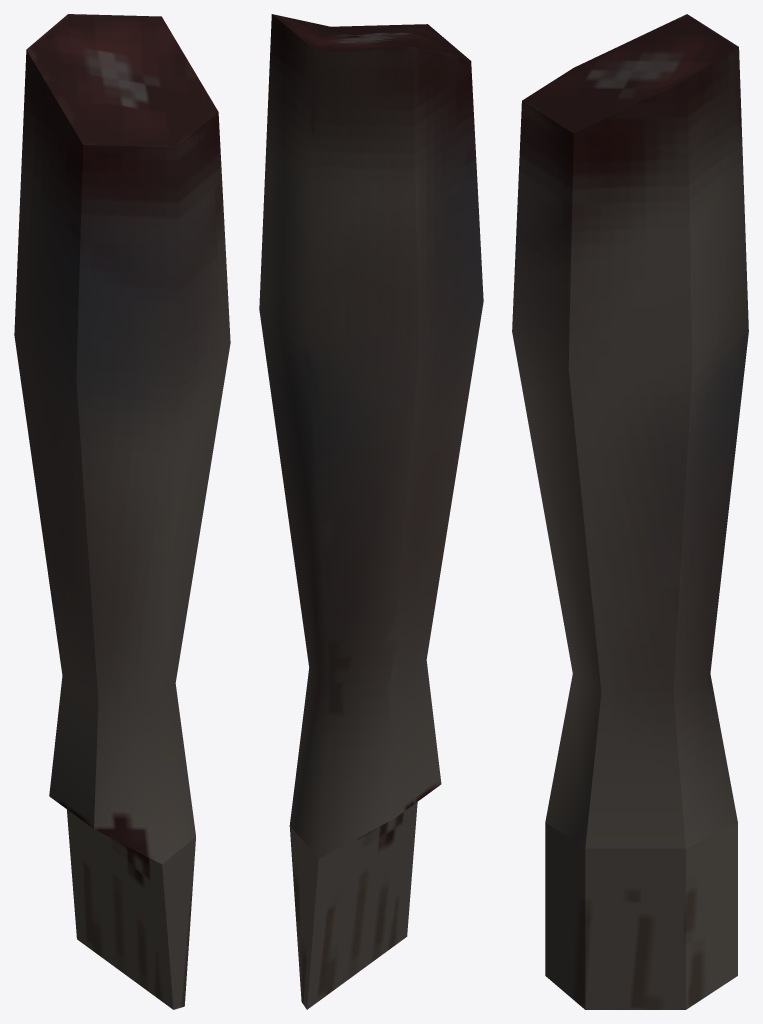
The model's file is larm.fbx.
The picture shows the model from 3 angles, left to right: view 1: azimuth 30°, elevation 25°; view 2: azimuth 150°, elevation 25°; view 3: azimuth 270°, elevation 25°; orthographic projection. The views are drawn at different scales.
Parts seen in each view (by area): view 1: larm; view 2: larm; view 3: larm.
Boxes of the visible parts, x1=… form: larm: x1=14, y1=14, x2=230, y2=1009; larm: x1=259, y1=14, x2=483, y2=1009; larm: x1=512, y1=14, x2=748, y2=1009.
Bounding box in the file's own units: 0.0887 × 0.5197 × 0.1182.
